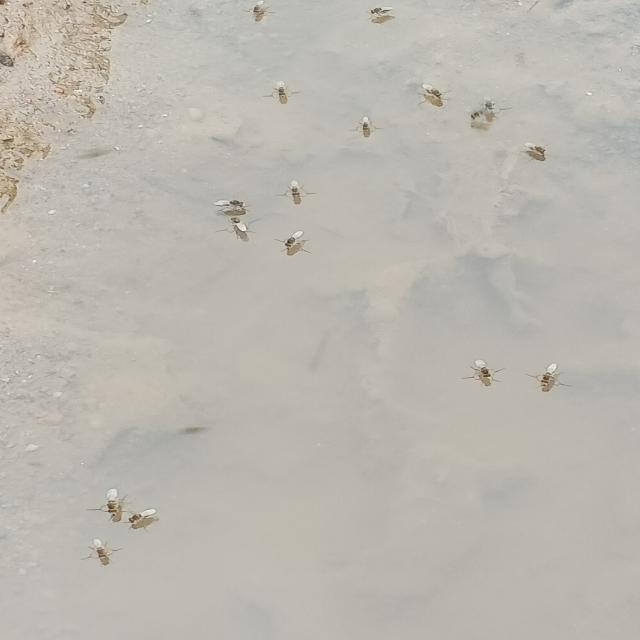Mosquito: (119, 502, 176, 536), (460, 354, 517, 386), (257, 80, 308, 108), (93, 487, 135, 520), (84, 535, 130, 565), (530, 363, 573, 392), (415, 82, 459, 109), (363, 2, 404, 30), (277, 231, 318, 258), (239, 0, 282, 25), (277, 178, 320, 202), (207, 195, 259, 214), (352, 112, 387, 140), (226, 214, 258, 237), (522, 142, 557, 162)
